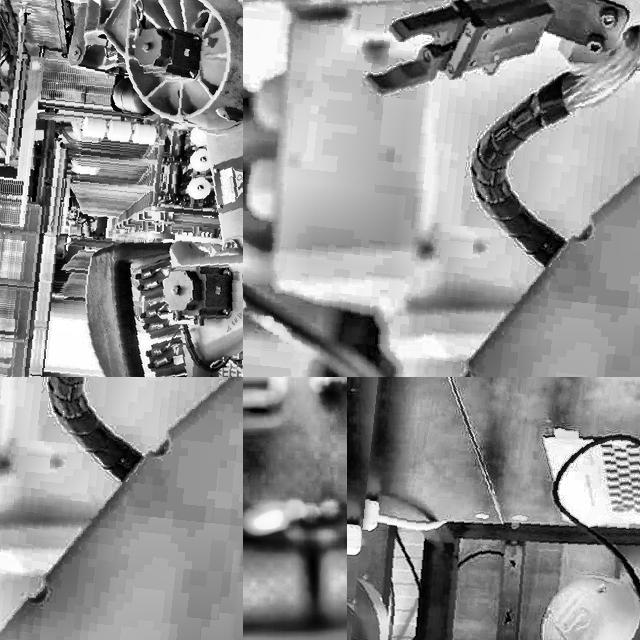robot: (243, 0, 640, 377), (0, 0, 243, 377), (243, 0, 475, 377), (331, 377, 640, 640), (0, 377, 243, 640), (0, 377, 52, 640)
